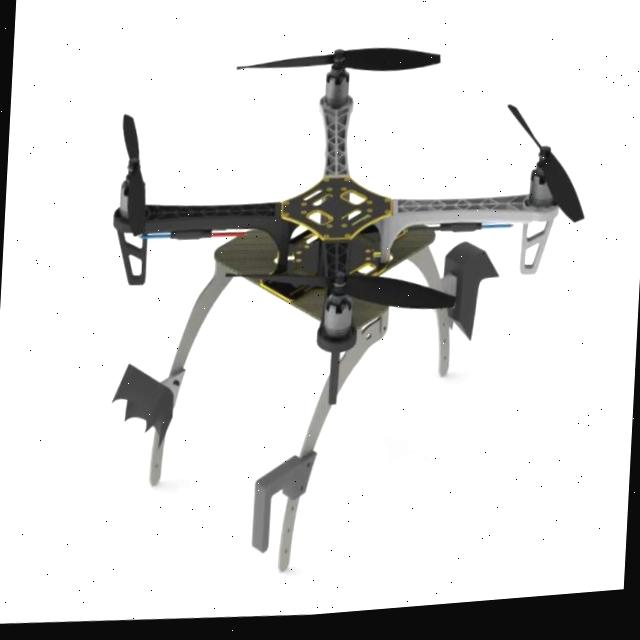drone: (68, 7, 626, 450)
